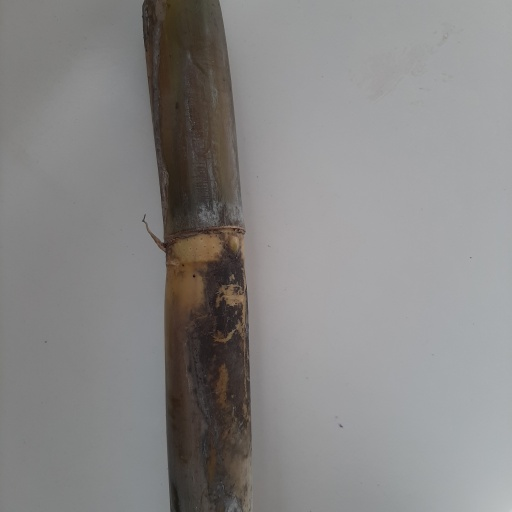Bud: (225, 232, 242, 259)
